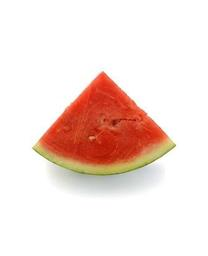watermelon: (32, 70, 177, 176)
